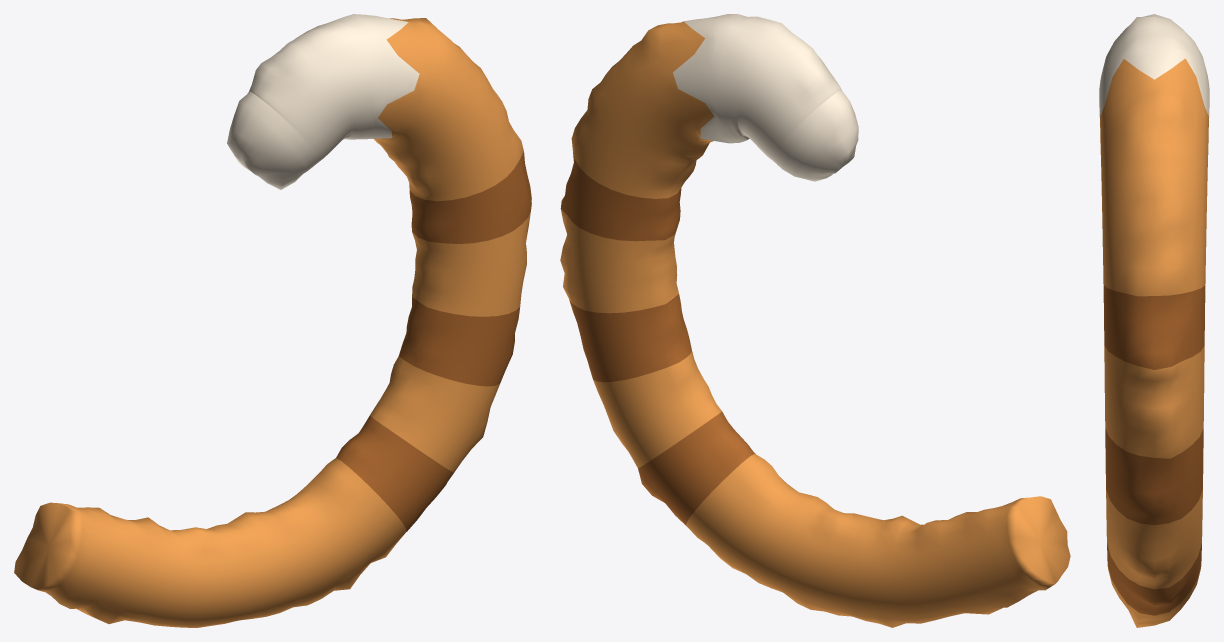
The model's file is cat-tail.glb.
3 renders of one model, left to right at view 1: azimuth 30°, elevation 25°; view 2: azimuth 150°, elevation 25°; view 3: azimuth 270°, elevation 25°, orthographic. The views are drawn at different scales.
Parts seen in each view (by area): view 1: cat_tail, cat_tail_tip, cat_tail_stripes; view 2: cat_tail, cat_tail_tip, cat_tail_stripes; view 3: cat_tail, cat_tail_stripes, cat_tail_tip.
Boxes of the visible parts, bbox=[...] form: cat_tail: bbox=[14, 18, 530, 627]; cat_tail_tip: bbox=[227, 14, 419, 189]; cat_tail_stripes: bbox=[336, 152, 531, 531]; cat_tail: bbox=[560, 18, 1070, 627]; cat_tail_tip: bbox=[673, 14, 858, 181]; cat_tail_stripes: bbox=[560, 152, 755, 525]; cat_tail: bbox=[1100, 58, 1208, 627]; cat_tail_stripes: bbox=[1103, 285, 1205, 615]; cat_tail_tip: bbox=[1099, 14, 1209, 116].
Bounding box in the file's own units: 1.13 × 1.22 × 0.1982.
